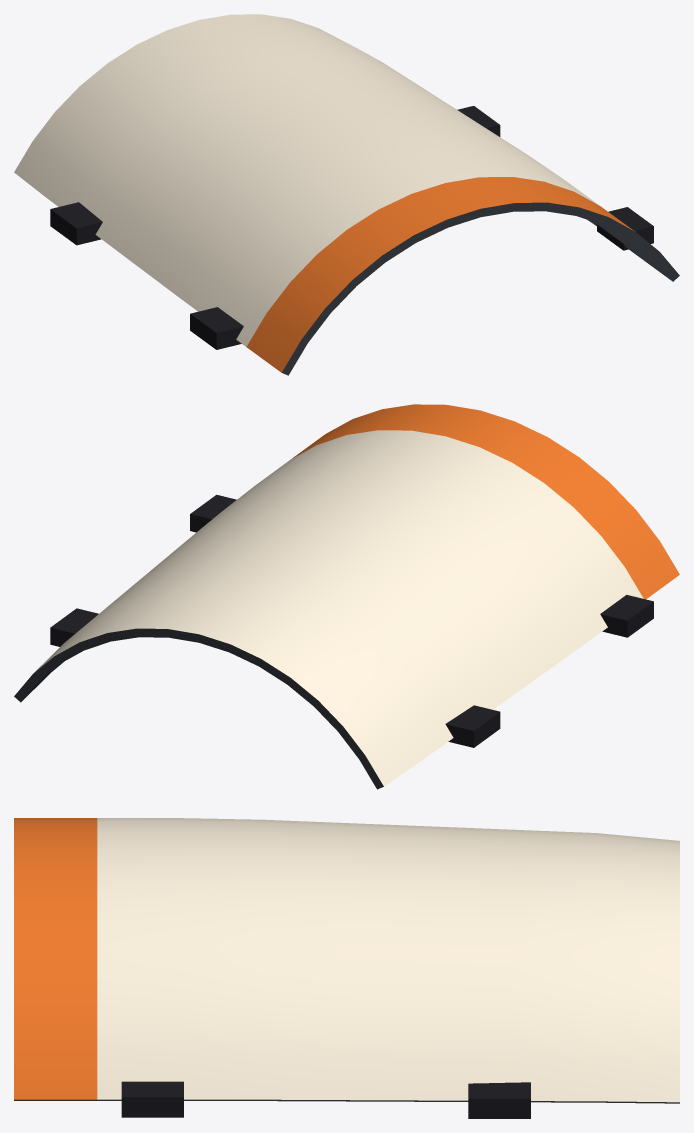
The model's file is RotCapo.fbx.
The picture shows the model from 3 angles, top to bottom: view 1: azimuth 30°, elevation 25°; view 2: azimuth 150°, elevation 25°; view 3: azimuth 270°, elevation 25°; orthographic projection. The views are drawn at different scales.
Parts seen in each view (by area): view 1: RotCapo; view 2: RotCapo; view 3: RotCapo.
Boxes of the visible parts, left/top/right/bottom form: RotCapo: left=14, top=14, right=679, bottom=375; RotCapo: left=14, top=404, right=679, bottom=789; RotCapo: left=14, top=818, right=679, bottom=1118.
Bounding box in the file's own units: 4.3 × 1.22 × 4.8.
Materials: 1 (1 with a texture image).
